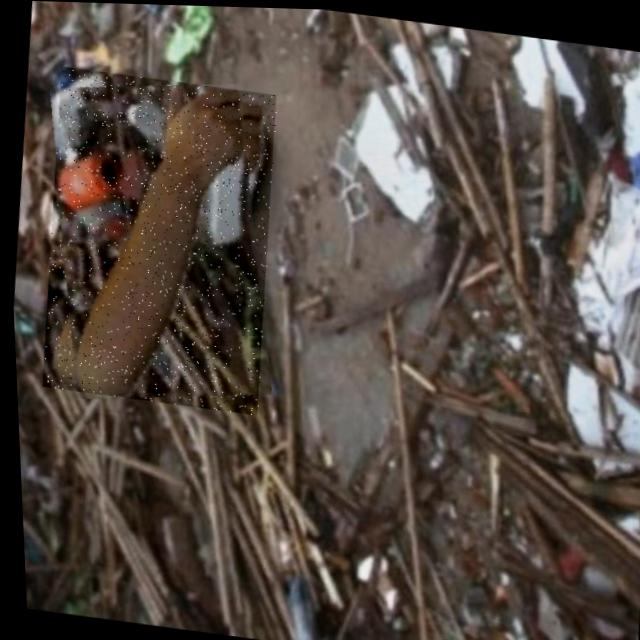Person in Rubble: (27, 64, 288, 413)
